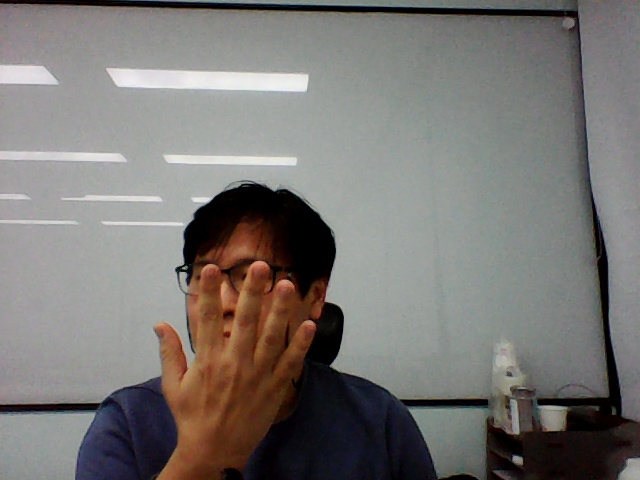five: (136, 254, 321, 466)
